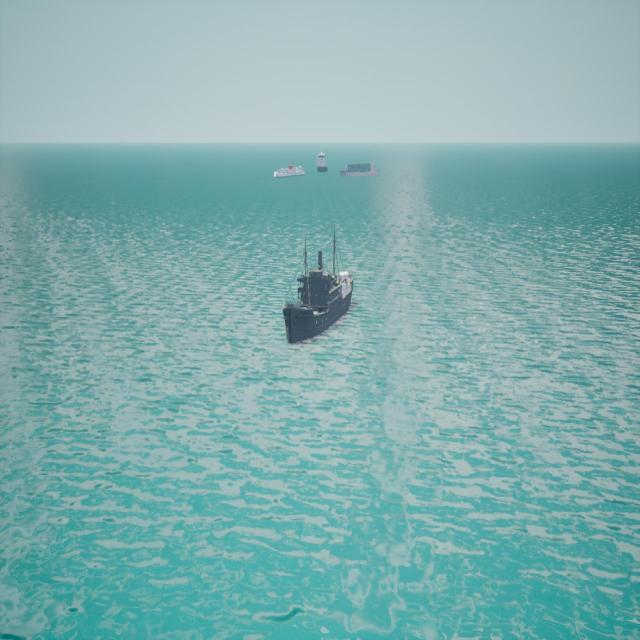fishing ship: (279, 212, 366, 362)
